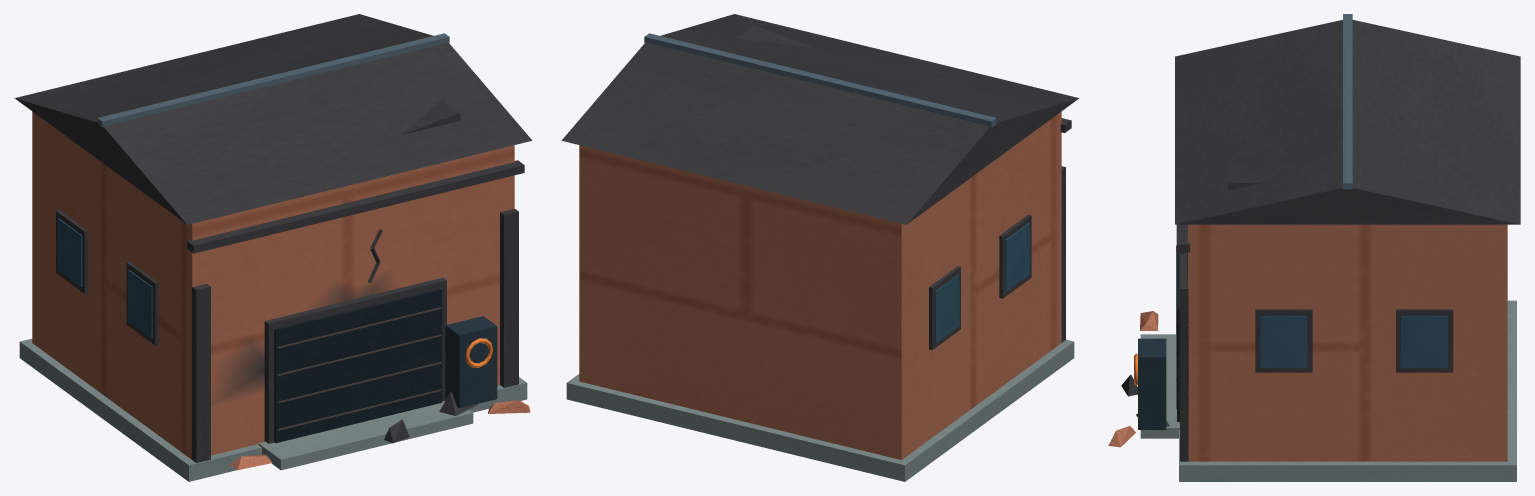
File: workshop-burning-lod.glb
3 renders of one model, left to right at view 1: azimuth 30°, elevation 25°; view 2: azimuth 150°, elevation 25°; view 3: azimuth 270°, elevation 25°, orthographic.
Visible parts, largest first — view 1: workshop-burning-lod; view 2: workshop-burning-lod; view 3: workshop-burning-lod.
Boxes of the visible parts, bbox=[...] form: workshop-burning-lod: bbox=[14, 14, 532, 481]; workshop-burning-lod: bbox=[561, 14, 1079, 481]; workshop-burning-lod: bbox=[1108, 14, 1520, 481].
Bounding box in the file's own units: 6.14 × 5.09 × 6.32.
3 materials, 3 textured.
